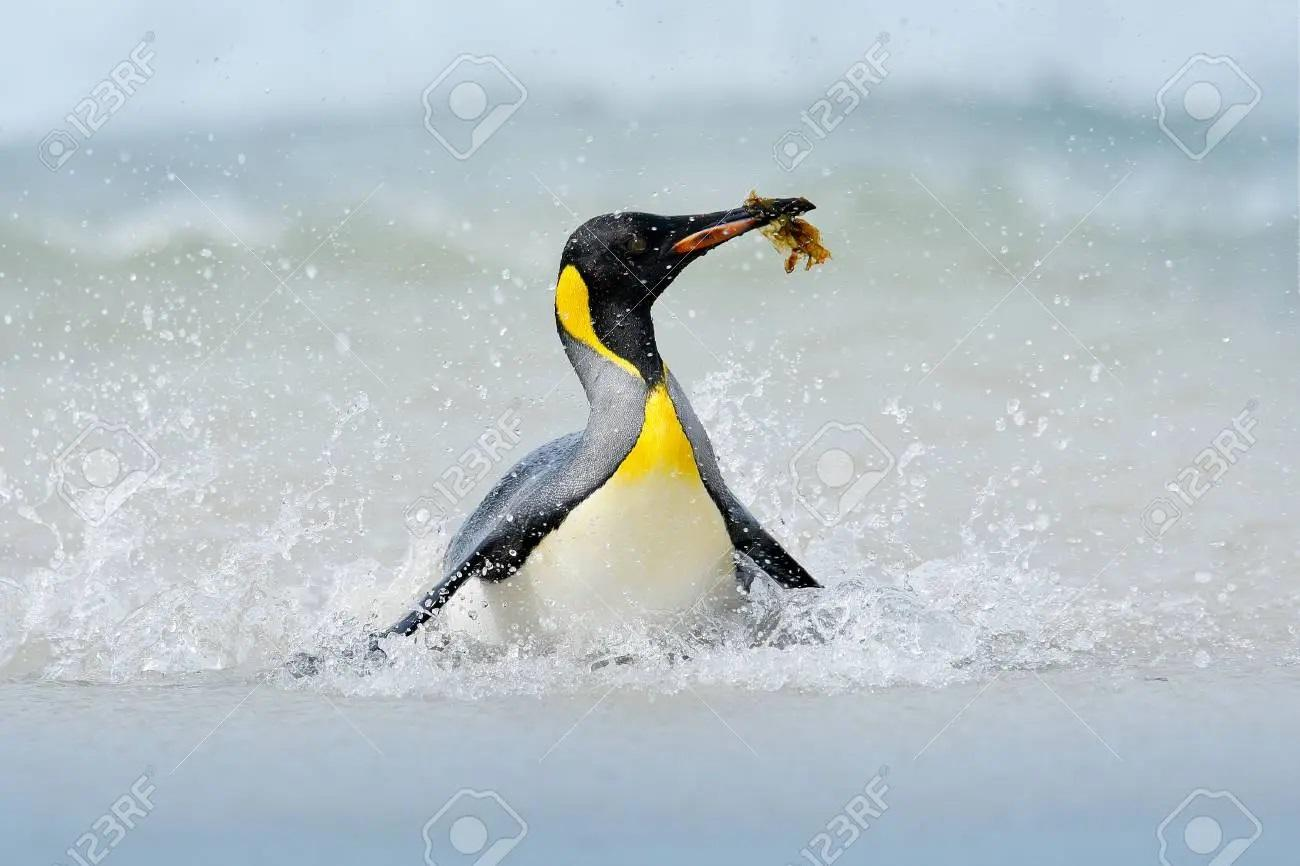king: (361, 126, 915, 749)
